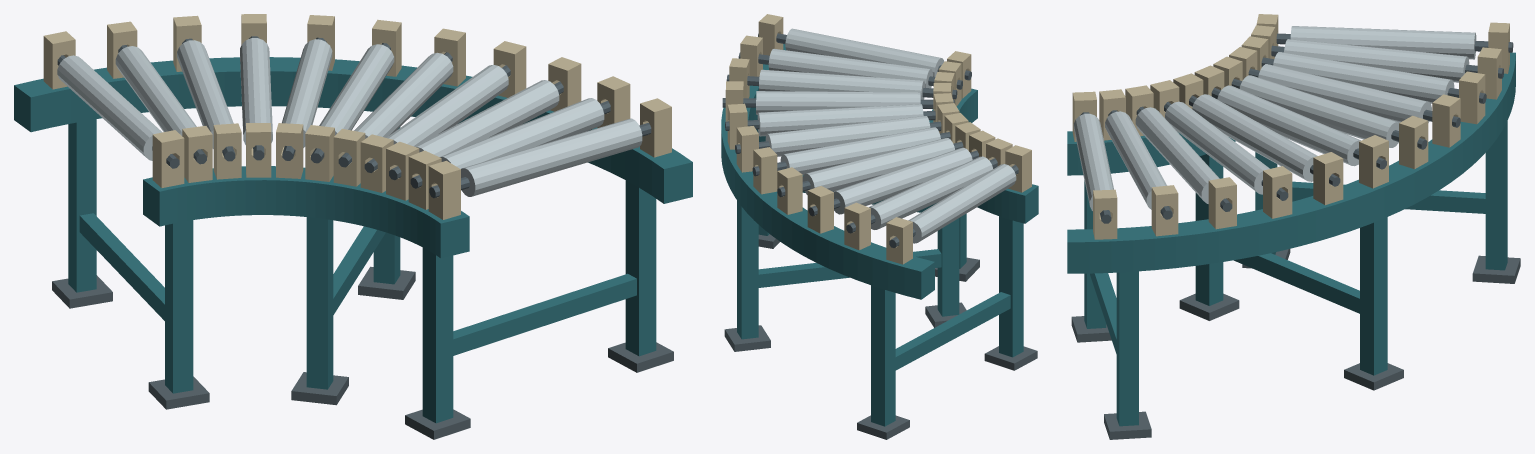
The picture shows the model from 3 angles, left to right: view 1: azimuth 30°, elevation 25°; view 2: azimuth 150°, elevation 25°; view 3: azimuth 270°, elevation 25°; orthographic projection. The views are drawn at different scales.
Parts seen in each view (by area): view 1: Outer_ContinuousQuarterAnnularBeam, Inner_ContinuousQuarterAnnularBeam, Radial01_SolidRoller, Support1_Inner_Upright, Support1_Outer_Upright, Support3_Inner_Upright, Support2_Inner_Upright, Support1_LowerRadialBrace, Support3_Outer_Upright, Radial02_SolidRoller, Radial03_SolidRoller, Radial11_SolidRoller (+38 smaller); view 2: Outer_ContinuousQuarterAnnularBeam, Support3_Outer_Upright, Support3_Inner_Upright, Radial09_SolidRoller, Radial08_SolidRoller, Radial10_SolidRoller, Radial06_SolidRoller, Radial05_SolidRoller, Radial07_SolidRoller, Radial02_SolidRoller, Radial03_SolidRoller, Radial04_SolidRoller (+33 smaller); view 3: Outer_ContinuousQuarterAnnularBeam, Support2_Outer_Upright, Radial07_SolidRoller, Radial06_SolidRoller, Radial08_SolidRoller, Radial10_SolidRoller, Radial09_SolidRoller, Radial11_SolidRoller, Radial05_SolidRoller, Support1_Outer_Upright, Radial04_SolidRoller, Support3_Outer_Upright (+34 smaller).
Boxes of the visible parts, box(x1,y1,x2,y2) form: Outer_ContinuousQuarterAnnularBeam: box(14, 57, 692, 203); Inner_ContinuousQuarterAnnularBeam: box(143, 166, 469, 258); Radial01_SolidRoller: box(461, 118, 642, 196); Support1_Inner_Upright: box(422, 247, 453, 423); Support1_Outer_Upright: box(625, 180, 656, 356); Support3_Inner_Upright: box(165, 220, 193, 393); Support2_Inner_Upright: box(306, 217, 333, 389); Support1_LowerRadialBrace: box(453, 273, 636, 355); Support3_Outer_Upright: box(68, 119, 96, 292); Radial02_SolidRoller: box(439, 98, 604, 168); Radial03_SolidRoller: box(415, 80, 559, 156); Radial11_SolidRoller: box(57, 55, 162, 160); Outer_ContinuousQuarterAnnularBeam: box(721, 44, 934, 299); Support3_Outer_Upright: box(871, 285, 895, 426); Support3_Inner_Upright: box(999, 216, 1023, 357); Radial09_SolidRoller: box(833, 147, 972, 214); Radial08_SolidRoller: box(802, 138, 954, 194); Radial10_SolidRoller: box(869, 156, 992, 229); Radial06_SolidRoller: box(765, 116, 930, 156); Radial05_SolidRoller: box(757, 104, 923, 136); Radial07_SolidRoller: box(780, 127, 940, 174); Radial02_SolidRoller: box(768, 48, 932, 88); Radial03_SolidRoller: box(759, 69, 924, 99); Radial04_SolidRoller: box(756, 91, 920, 114); Outer_ContinuousQuarterAnnularBeam: box(1067, 52, 1515, 273); Support2_Outer_Upright: box(1360, 217, 1387, 375); Radial07_SolidRoller: box(1239, 75, 1398, 147); Radial06_SolidRoller: box(1217, 85, 1360, 166); Radial08_SolidRoller: box(1258, 64, 1431, 122); Radial10_SolidRoller: box(1284, 39, 1469, 82); Radial09_SolidRoller: box(1273, 52, 1454, 103); Radial11_SolidRoller: box(1290, 26, 1476, 59); Radial05_SolidRoller: box(1192, 94, 1317, 181); Support1_Outer_Upright: box(1116, 271, 1138, 426); Radial04_SolidRoller: box(1165, 101, 1269, 194); Support3_Outer_Upright: box(1485, 121, 1507, 270).
Size of the model in its own units: 1.5 by 0.865 by 1.5.
